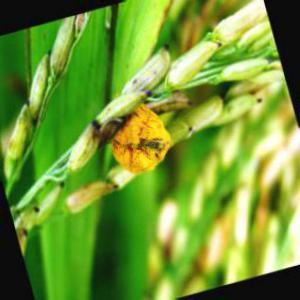Leaf_Scald: (114, 108, 162, 171)
